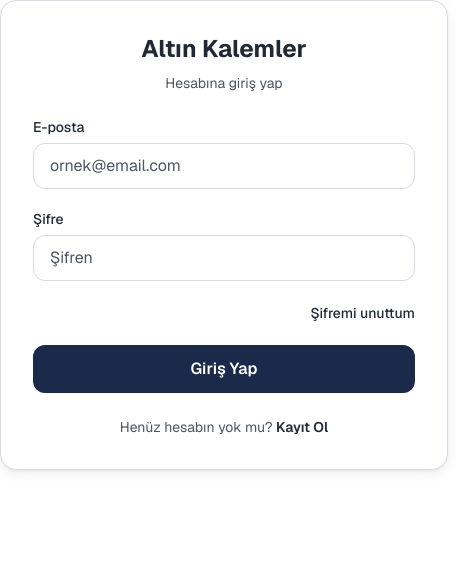
Scenario: LoginPage › geçersiz girişte izin sorgusu ve yönlendirme yapmaz
Type "reviewer@example.com" into the field labelled "E-posta" at (224, 166), box [33,143,415,189]
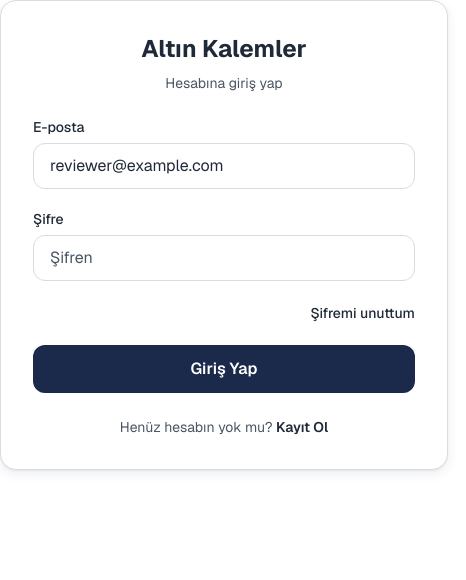
Type "securepass1" into the password field labelled "Şifre" at (224, 258), box [33,235,415,281]
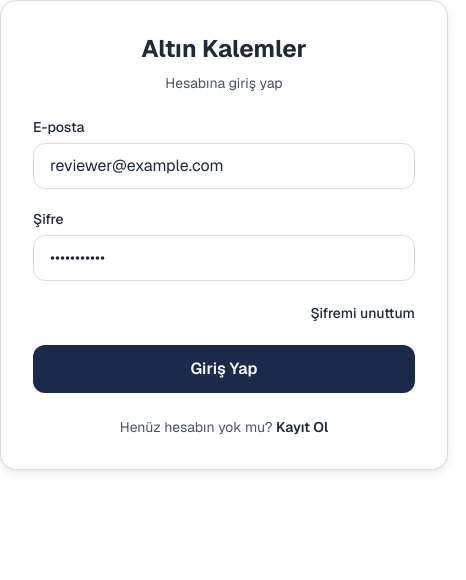
Click the button "Giriş Yap" at (224, 369), box [33,345,415,393]
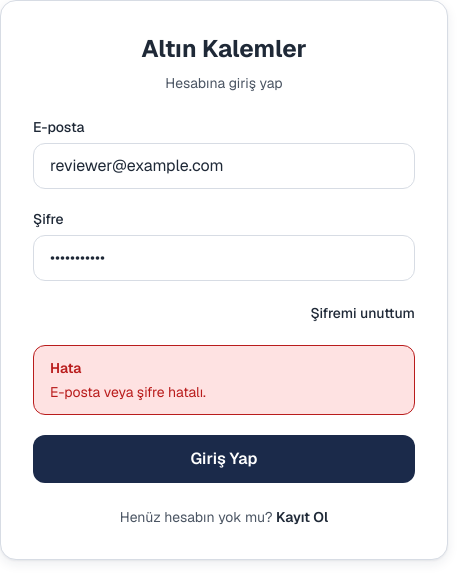
Expected: the text "E-posta veya şifre hatalı." is shown, [50,383,206,401]
